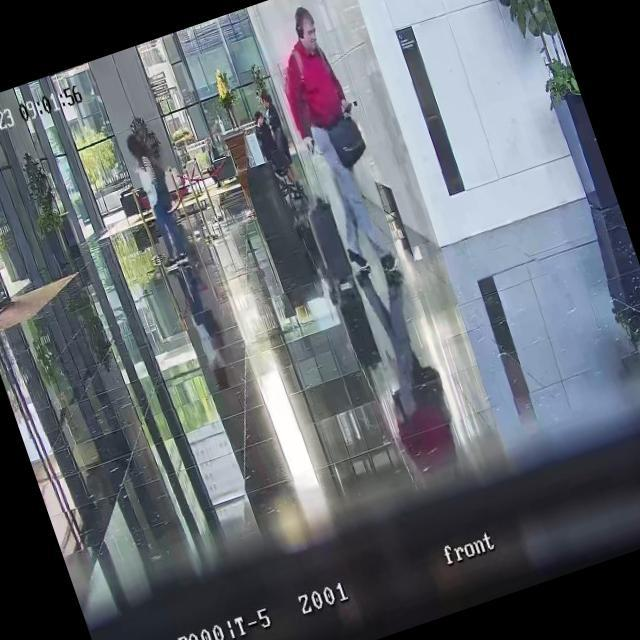person: (259, 1, 408, 287), (120, 128, 192, 270), (255, 86, 301, 185), (248, 108, 282, 165), (197, 134, 231, 190)
